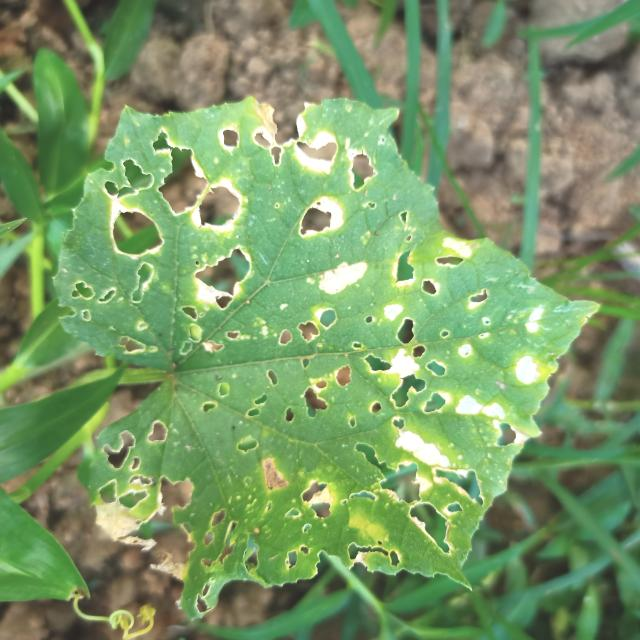disease_cucumber: (73, 107, 538, 585)
